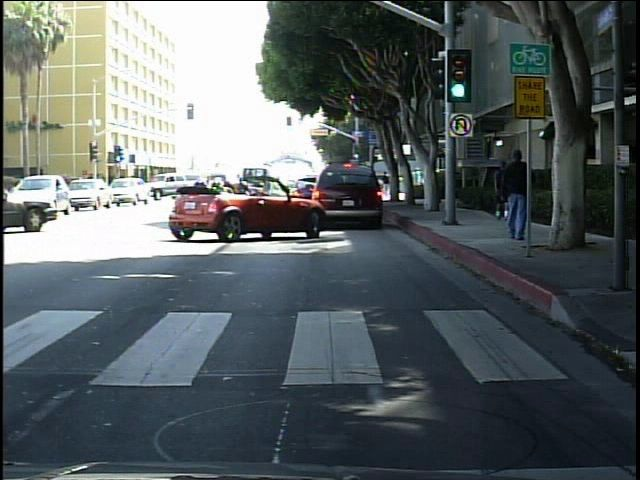person: (498, 140, 531, 240), (490, 148, 516, 226), (412, 165, 425, 186)
